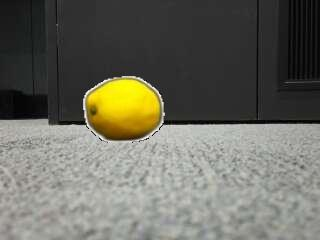lemon: (86, 79, 160, 140)
